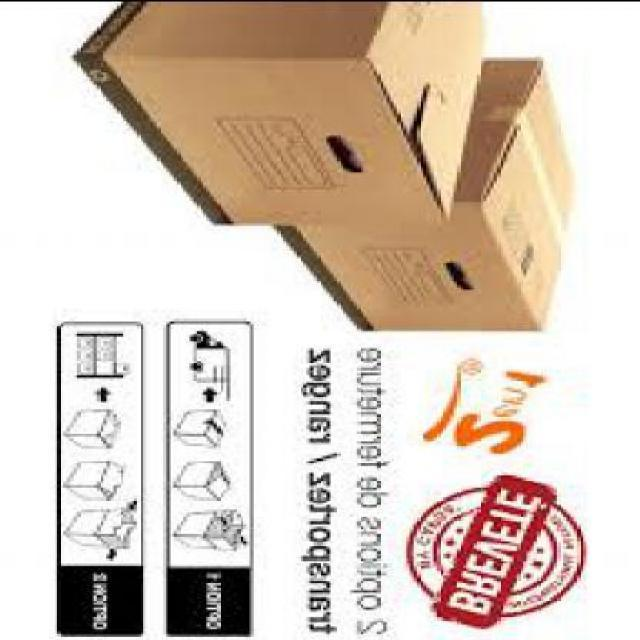box: (77, 3, 497, 231), (274, 62, 588, 336)
